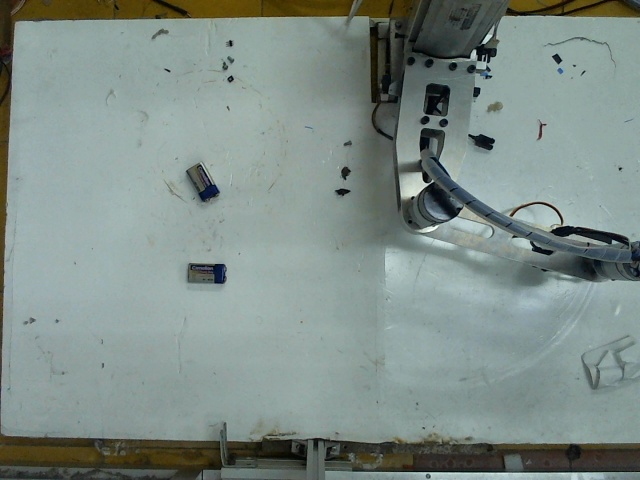battery: (181, 255, 227, 287), (184, 162, 220, 202)
